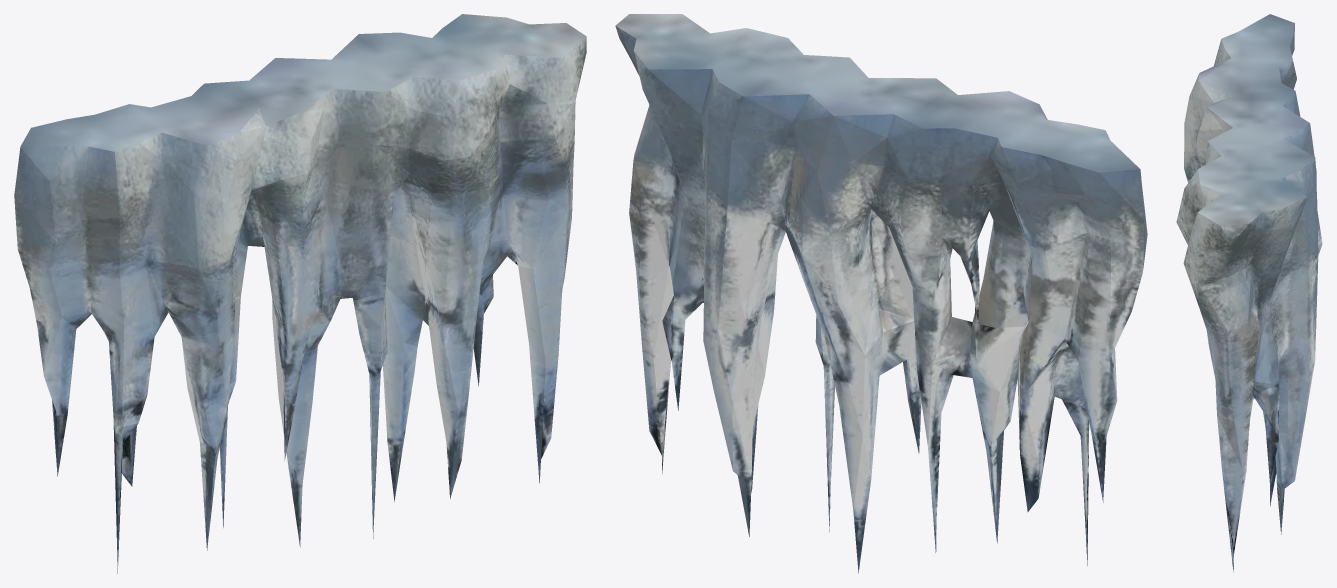
The model's file is icicle.glb.
The picture shows the model from 3 angles, left to right: view 1: azimuth 30°, elevation 25°; view 2: azimuth 150°, elevation 25°; view 3: azimuth 270°, elevation 25°; orthographic projection. The views are drawn at different scales.
Visible parts, largest first — view 1: Object_4; view 2: Object_4; view 3: Object_4.
Boxes of the visible parts, bbox=[...] form: Object_4: bbox=[14, 14, 586, 573]; Object_4: bbox=[615, 14, 1147, 573]; Object_4: bbox=[1176, 14, 1322, 572].
Size of the model in its own units: 2.14 by 1.77 by 0.6078.
1 material, 1 textured.
